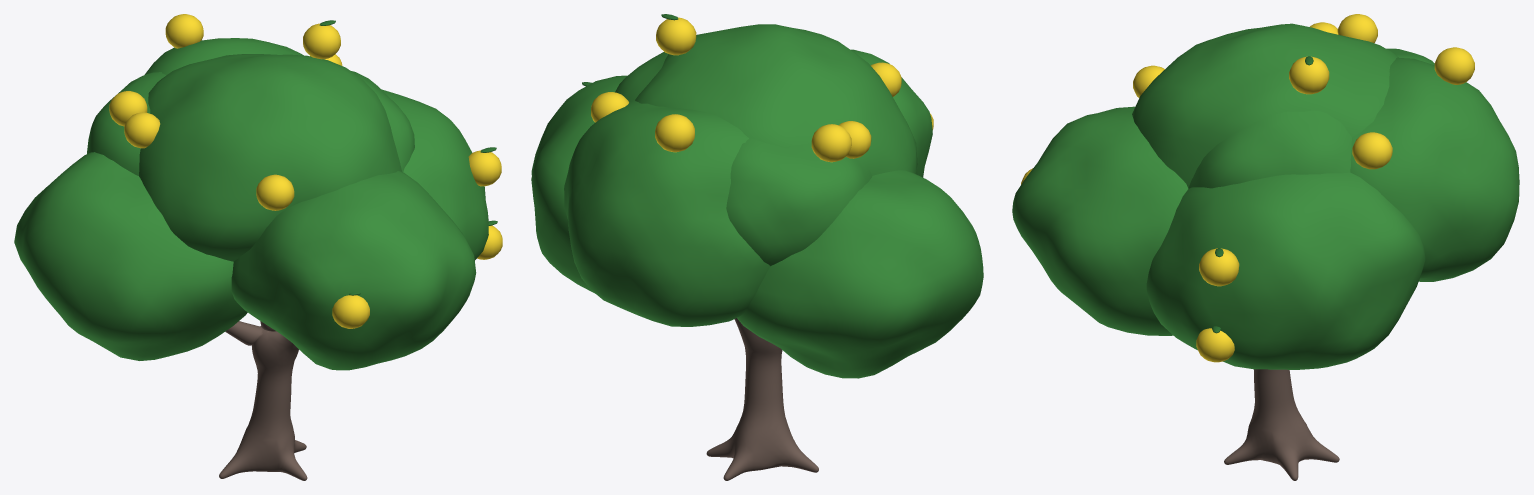
Rendered from lemon.glb.
3 renders of one model, left to right at view 1: azimuth 30°, elevation 25°; view 2: azimuth 150°, elevation 25°; view 3: azimuth 270°, elevation 25°, orthographic. The views are drawn at different scales.
Parts seen in each view (by area): view 1: leaf_0, leaf_4, leaf_3, fruit, trunk, leaf_1, leaf_5, leaf_2, leaf_7; view 2: leaf_2, leaf_3, leaf_0, leaf_5, trunk, leaf_1, fruit, leaf_4, leaf_7; view 3: leaf_1, leaf_4, leaf_2, leaf_0, leaf_7, fruit, trunk.
Boxes of the visible parts, x1=… form: leaf_0: x1=139, y1=54, x2=401, y2=261; leaf_4: x1=231, y1=171, x2=476, y2=370; leaf_3: x1=14, y1=152, x2=247, y2=360; fruit: x1=109, y1=14, x2=502, y2=328; trunk: x1=219, y1=321, x2=307, y2=480; leaf_1: x1=381, y1=89, x2=488, y2=260; leaf_5: x1=87, y1=72, x2=165, y2=175; leaf_2: x1=144, y1=38, x2=303, y2=75; leaf_7: x1=351, y1=71, x2=414, y2=171; leaf_2: x1=564, y1=100, x2=769, y2=326; leaf_3: x1=737, y1=170, x2=983, y2=378; leaf_0: x1=635, y1=24, x2=917, y2=175; leaf_5: x1=726, y1=138, x2=872, y2=266; trunk: x1=706, y1=318, x2=818, y2=480; leaf_1: x1=531, y1=75, x2=627, y2=293; fruit: x1=591, y1=17, x2=933, y2=162; leaf_4: x1=851, y1=49, x2=932, y2=177; leaf_7: x1=615, y1=52, x2=668, y2=101; leaf_1: x1=1146, y1=172, x2=1425, y2=369; leaf_4: x1=1012, y1=106, x2=1188, y2=335; leaf_2: x1=1350, y1=57, x2=1519, y2=281; leaf_0: x1=1132, y1=23, x2=1398, y2=187; leaf_7: x1=1188, y1=110, x2=1351, y2=188; fruit: x1=1021, y1=14, x2=1474, y2=362; trunk: x1=1224, y1=369, x2=1339, y2=480.
Bounding box in the file's own units: 2.96 × 2.82 × 2.96.
